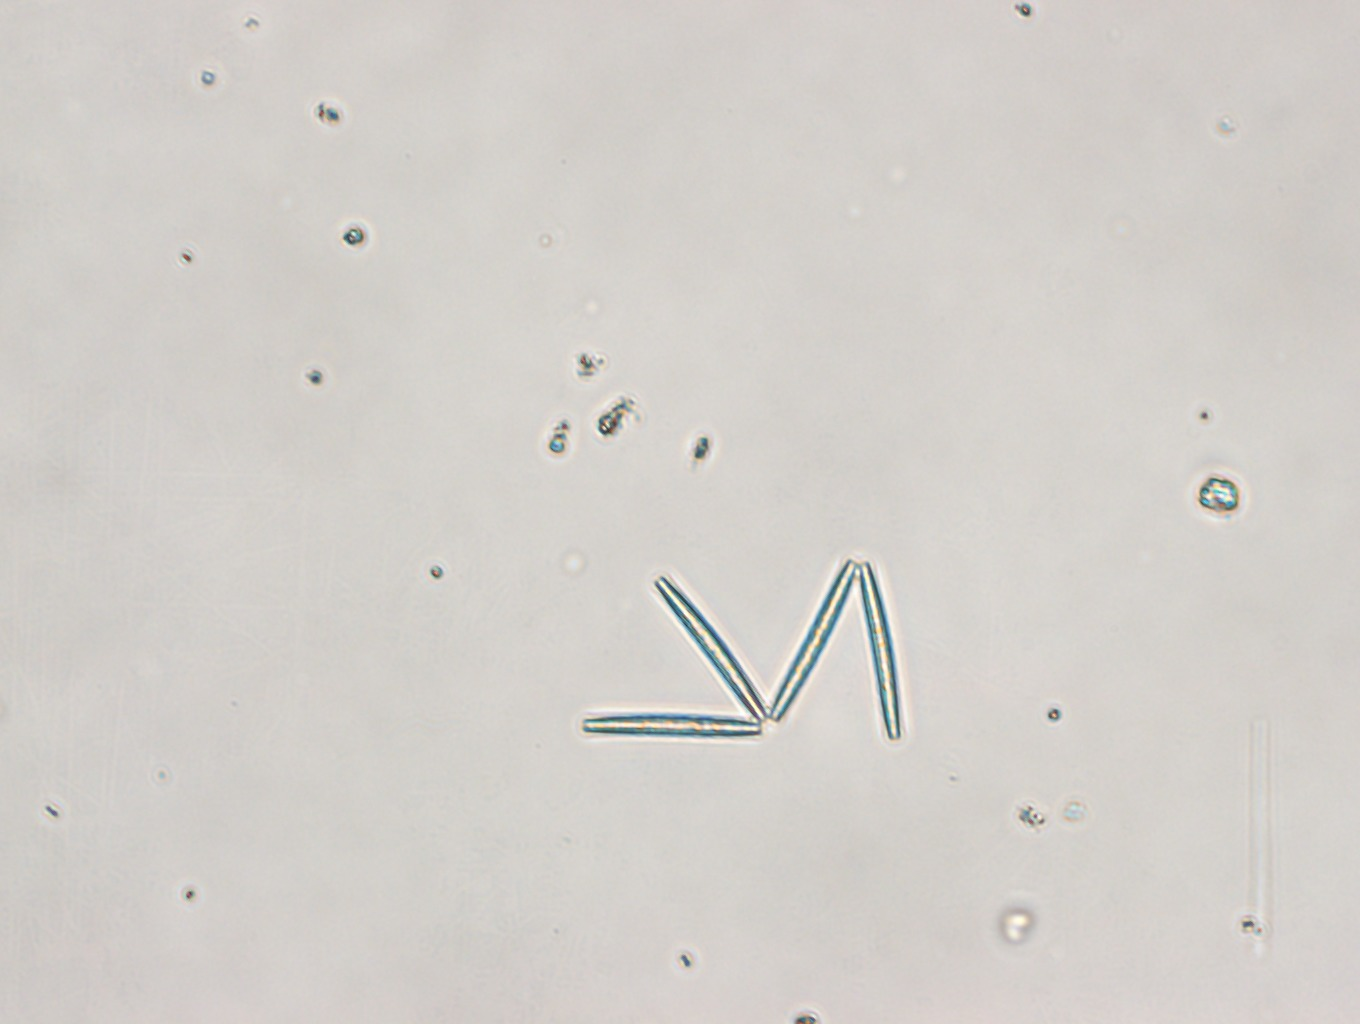thalassionema nitzschioides: (588, 550, 917, 743)
